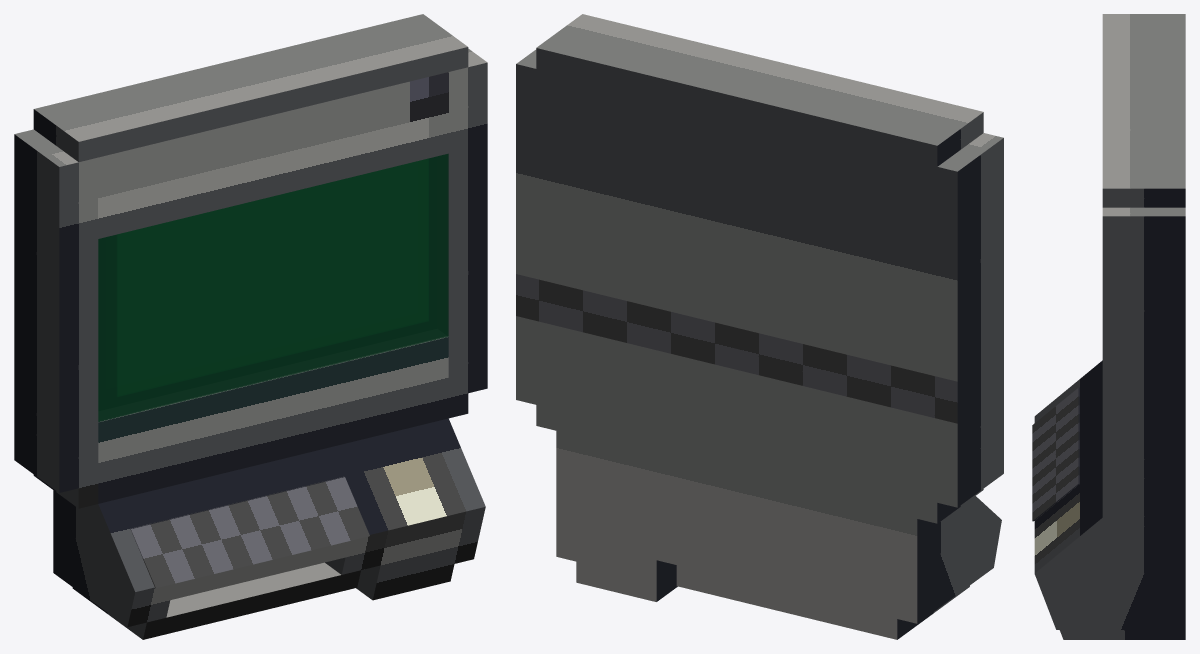
File: newscaster_off.glb
3 views of the same model, side by side, from view 1: azimuth 30°, elevation 25°; view 2: azimuth 150°, elevation 25°; view 3: azimuth 270°, elevation 25° (orthographic). The views are drawn at different scales.
Visible parts, largest first — view 1: Continuous_Housing, Recessed_Display_Glass, Keyboard_Panel; view 2: Continuous_Housing; view 3: Continuous_Housing, Keyboard_Panel.
Part boxes in pixels (left/top/right/bottom): Continuous_Housing: left=14, top=14, right=487, bottom=639; Recessed_Display_Glass: left=98, top=153, right=448, bottom=421; Keyboard_Panel: left=130, top=476, right=369, bottom=588; Continuous_Housing: left=516, top=14, right=1003, bottom=639; Continuous_Housing: left=1034, top=14, right=1185, bottom=639; Keyboard_Panel: left=1032, top=387, right=1079, bottom=521.
Bounding box in the file's own units: 0.6188 × 0.7031 × 0.2081.
2 materials, 2 textured.
